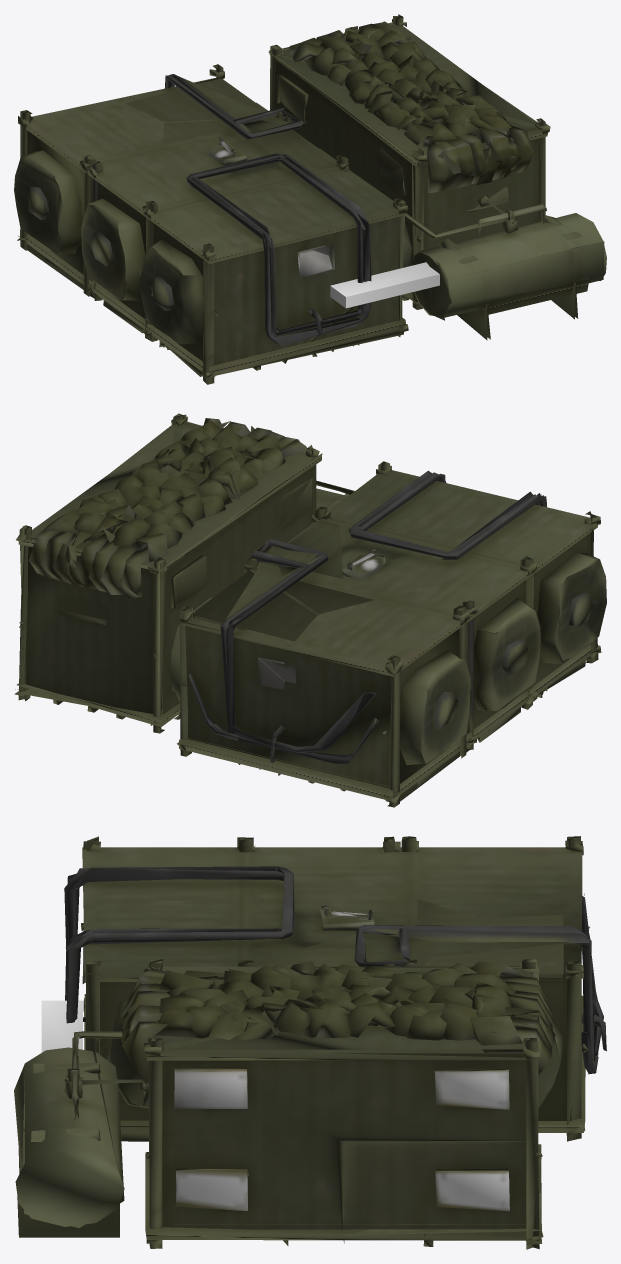
The model's file is cn-power-plant.glb.
3 renders of one model, top to bottom at view 1: azimuth 30°, elevation 25°; view 2: azimuth 150°, elevation 25°; view 3: azimuth 270°, elevation 25°, orthographic. The views are drawn at different scales.
Parts seen in each view (by area): view 1: cn-power-plant; view 2: cn-power-plant; view 3: cn-power-plant.
Part boxes in pixels (x1=…): cn-power-plant: x1=14, y1=14, x2=606, y2=384; cn-power-plant: x1=14, y1=413, x2=606, y2=807; cn-power-plant: x1=14, y1=836, x2=606, y2=1249.
Size of the model in its own units: 2.58 by 1.08 by 2.58.
2 materials, 1 textured.
